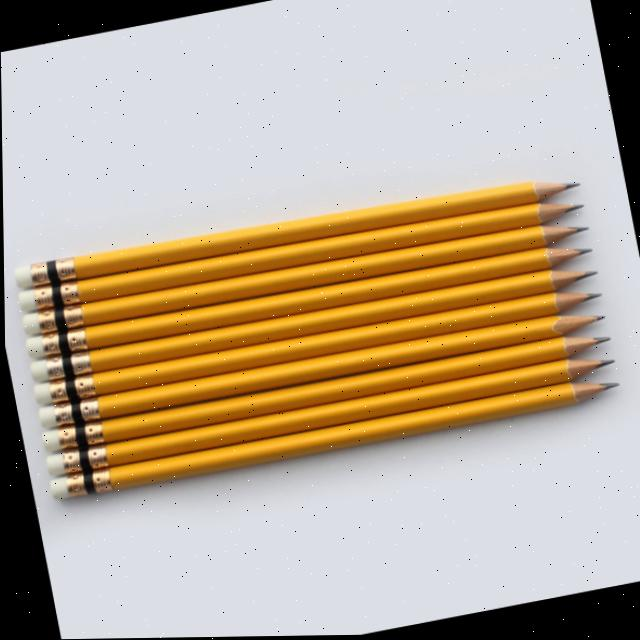pencil: (44, 382, 634, 505), (38, 359, 627, 482), (33, 313, 617, 433), (38, 337, 623, 455), (21, 245, 604, 362), (26, 269, 609, 386), (29, 291, 613, 407), (13, 200, 592, 315), (19, 224, 593, 339), (11, 178, 588, 292)
